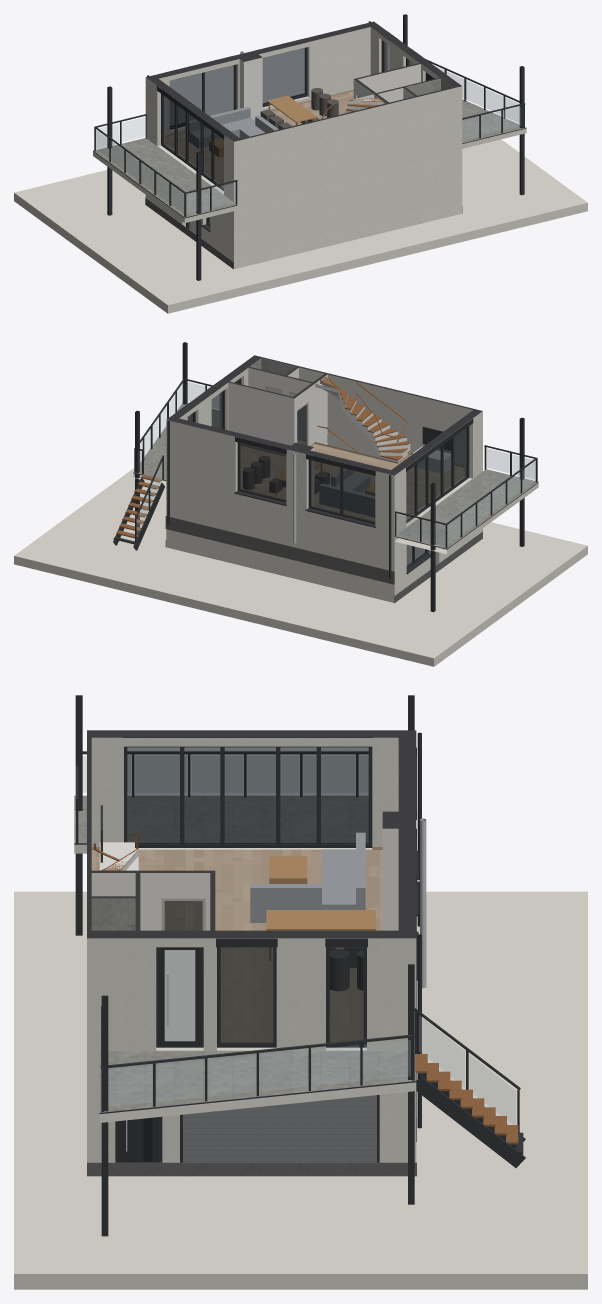
File: dum_b_1np.glb
3 views of the same model, one above another, from view 1: azimuth 30°, elevation 25°; view 2: azimuth 150°, elevation 25°; view 3: azimuth 270°, elevation 25° (orthographic). The views are drawn at different scales.
Visible parts, largest first — view 1: B_ext_omitka, podstava, B_sklo_sklo, B_ext_antracit, B_ext_dlazba_balkon, B_ext_sklo_zabradli, rez_sten, B_int_omitka_int, pevne_vinyl, sedacka_L_dlouha, jidelni_stul, B_ext_sokl (+2 smaller); view 2: podstava, B_ext_omitka, B_ext_antracit, B_sklo_sklo, B_int_omitka_int, B_ext_dlazba_balkon, B_ext_sklo_zabradli, B_ext_sokl, pevne_vinyl, rez_sten, B_int_drevo, sedacka_L_dlouha (+3 smaller); view 3: podstava, B_ext_omitka, B_sklo_sklo, B_ext_dlazba_balkon, B_ext_antracit, pevne_vinyl, B_ext_sklo_zabradli, rez_sten, B_ext_vrata, B_int_omitka_int, B_ext_sokl, B_ext_dvere (+10 smaller).
Boxes of the visible parts, x1,y1,x2,y2 form: B_ext_omitka: (93,27,526,269); podstava: (14,139,587,313); B_sklo_sklo: (163,41,413,229); B_ext_antracit: (93,14,526,280); B_ext_dlazba_balkon: (93,99,525,217); B_ext_sklo_zabradli: (96,67,520,213); rez_sten: (146,21,461,141); B_int_omitka_int: (239,57,440,119); pevne_vinyl: (166,91,353,185); sedacka_L_dlouha: (189,106,255,148); jidelni_stul: (267,95,317,125); B_ext_sokl: (145,197,462,269); podstava: (14,468,587,666); B_ext_omitka: (133,358,538,602); B_ext_antracit: (113,342,538,612); B_sklo_sklo: (187,391,467,566); B_int_omitka_int: (228,367,410,506); B_ext_dlazba_balkon: (133,403,537,548); B_ext_sklo_zabradli: (137,382,535,545); B_ext_sokl: (165,516,482,603); pevne_vinyl: (240,440,464,521); rez_sten: (166,355,482,475); B_int_drevo: (317,377,410,460); sedacka_L_dlouha: (319,483,374,517); podstava: (14,891,587,1289); B_ext_omitka: (74,737,416,1162); B_sklo_sklo: (127,747,368,1161); B_ext_dlazba_balkon: (74,795,416,1112); B_ext_antracit: (74,695,525,1236); pevne_vinyl: (91,849,382,1042); B_ext_sklo_zabradli: (83,756,515,1124); rez_sten: (87,730,416,938); B_ext_vrata: (183,1095,376,1162); B_int_omitka_int: (91,828,398,930); B_ext_sokl: (87,916,416,1176); B_ext_dvere: (118,947,200,1162).
Size of the model in its own units: 18.6 by 5.78 by 11.8.
30 materials, 8 textured.
